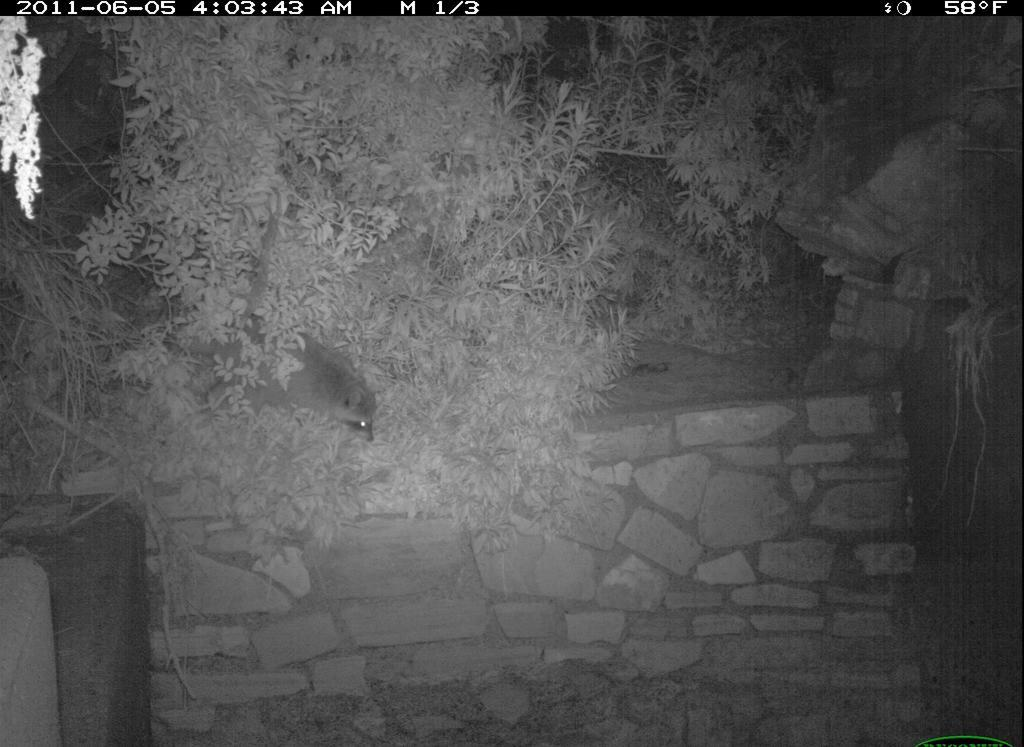raccoon: (166, 304, 393, 452)
